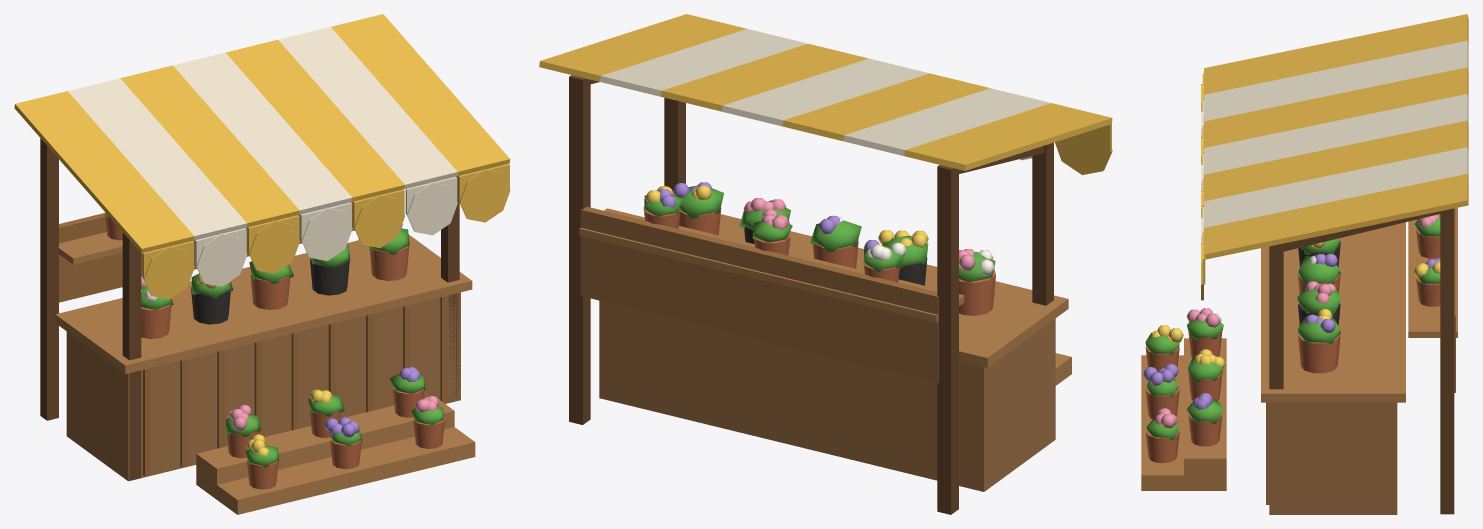
File: stall_flowers.glb
3 renders of one model, left to right at view 1: azimuth 30°, elevation 25°; view 2: azimuth 150°, elevation 25°; view 3: azimuth 270°, elevation 25°, orthographic. The views are drawn at different scales.
Parts seen in each view (by area): view 1: Market_Stall_Flowers; view 2: Market_Stall_Flowers; view 3: Market_Stall_Flowers.
Part boxes in pixels (<box>): Market_Stall_Flowers: <box>14,14,510,514</box>; Market_Stall_Flowers: <box>539,14,1112,514</box>; Market_Stall_Flowers: <box>1141,14,1468,514</box>.
Size of the model in its own units: 3.1 by 2.51 by 2.3.
